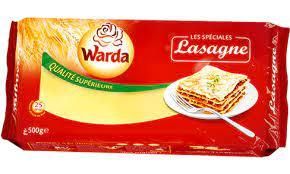lasagne: (0, 17, 288, 157)
